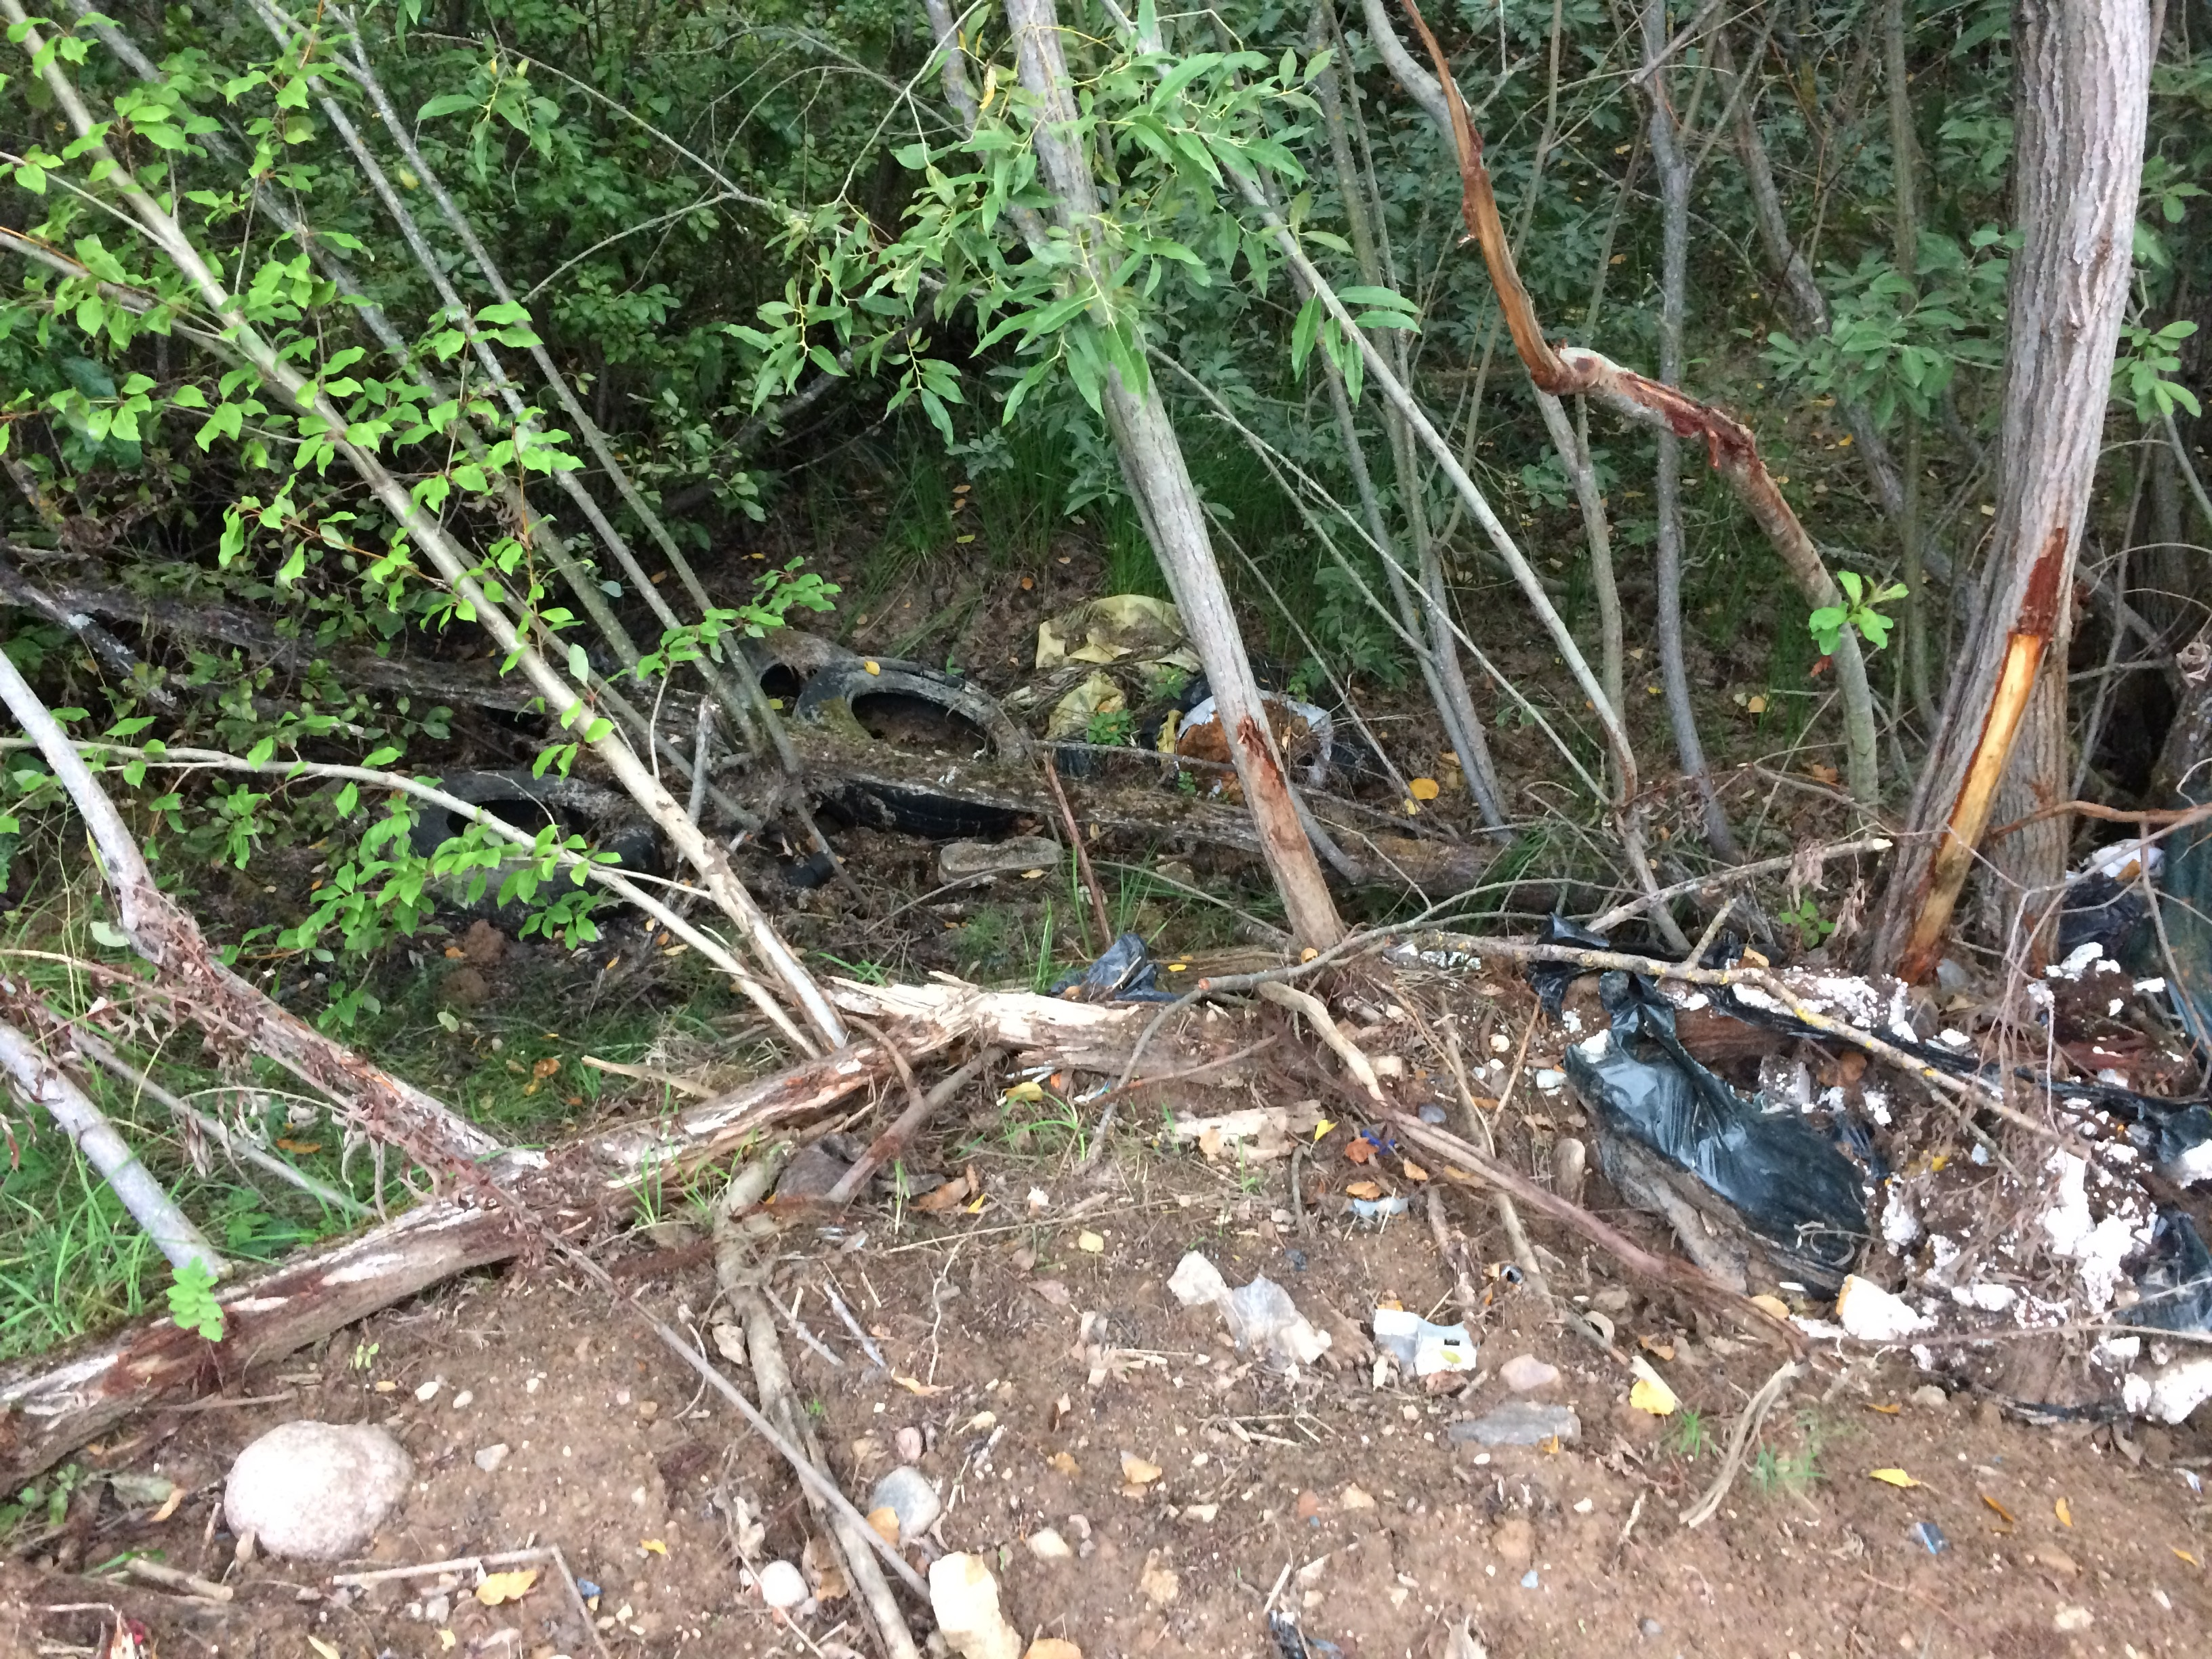trash: (333, 497, 1569, 1126), (1341, 775, 2212, 1460), (1115, 1065, 1472, 1439), (679, 1420, 1217, 1659)
